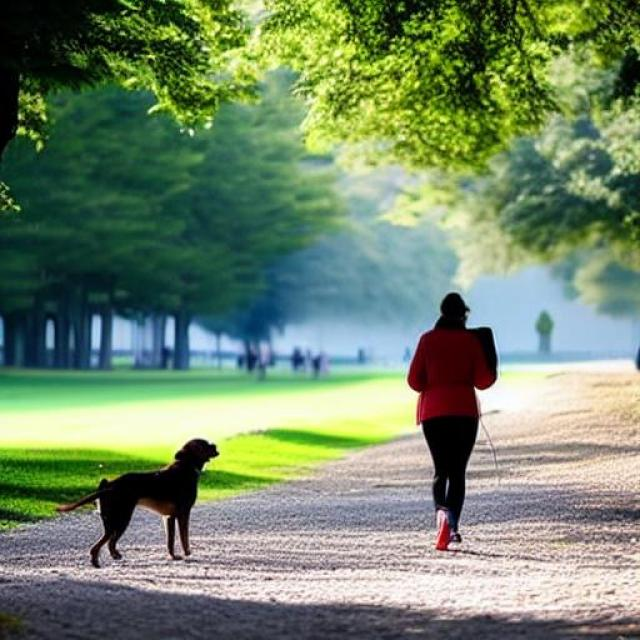Unleashed_Dog: (56, 402, 477, 568)
